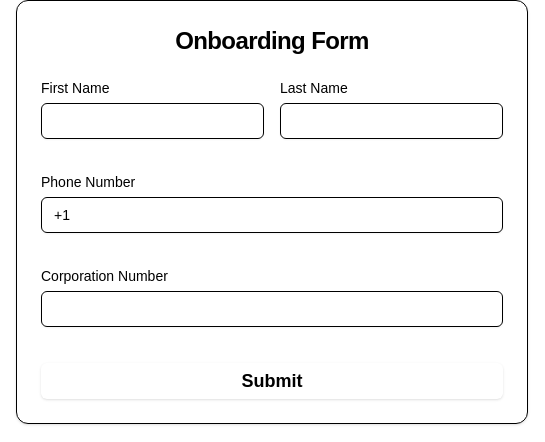
Test: OnboardingForm › shows validation errors when form submitted empty
This screenshot has width=545, height=442.
What coordinates should you click on to do the following:
click the button "Submit"
I would click on:
 (272, 381)
Its box is [41, 363, 503, 399].
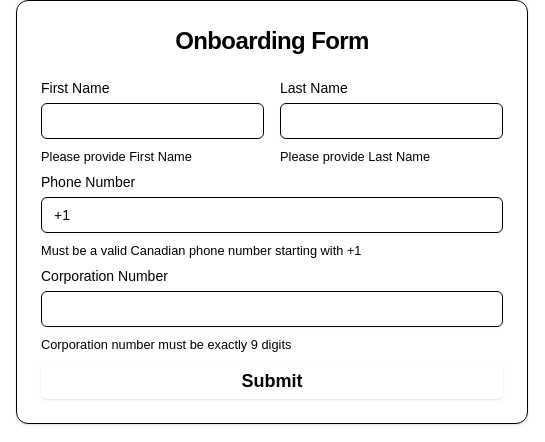
Expected: the text "Please provide First Name" is shown, [41, 149, 192, 164]
Expected: the text "Please provide Last Name" is shown, [280, 149, 430, 164]
Expected: the text "Must be a valid Canadian phone number starting with +1" is shown, [41, 243, 362, 258]
